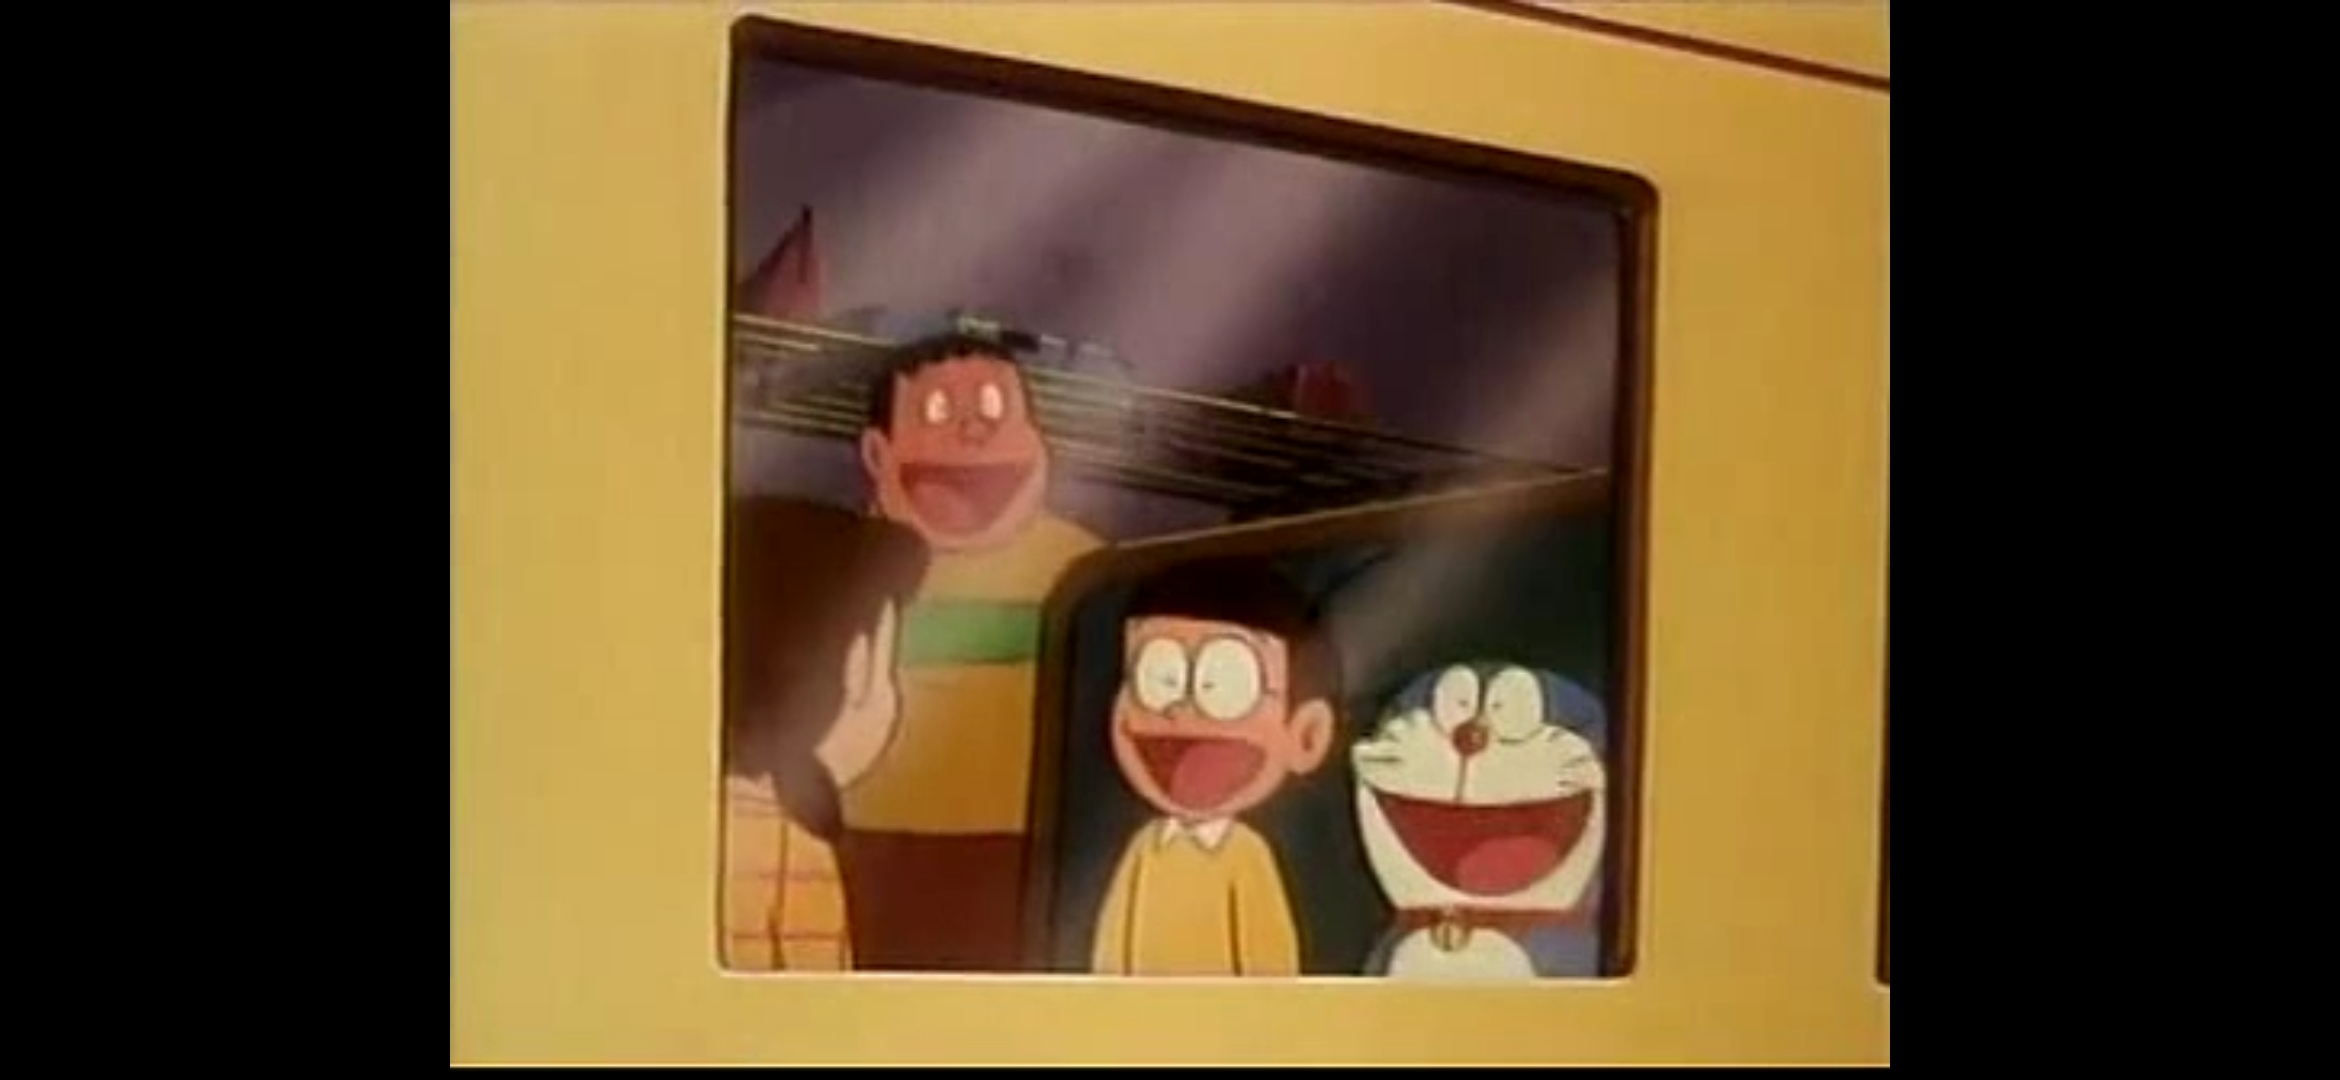Doraemon: (1348, 656, 1604, 947)
Nobi: (1109, 562, 1333, 819)
Shizuka: (725, 500, 922, 788)
Takeshi: (860, 334, 1042, 550)
